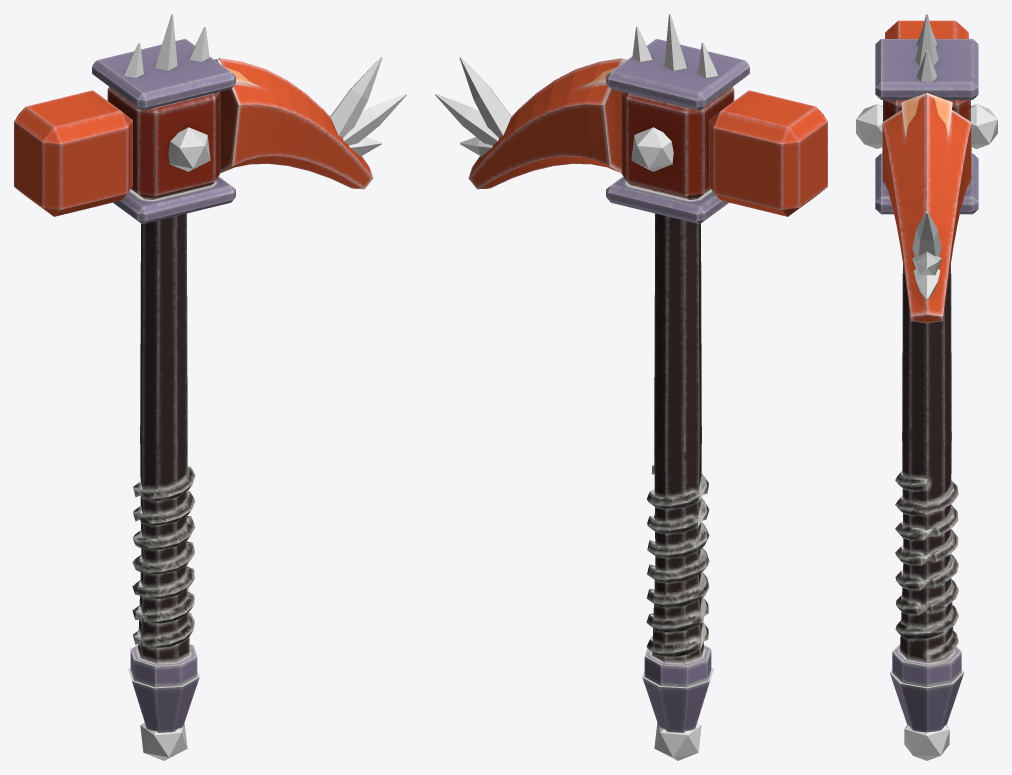
File: EmberPickaxe.glb
The picture shows the model from 3 angles, left to right: view 1: azimuth 30°, elevation 25°; view 2: azimuth 150°, elevation 25°; view 3: azimuth 270°, elevation 25°; orthographic projection.
Visible parts, largest first — view 1: Body__Tex, Head__Accent, Head__Gem; view 2: Body__Tex, Head__Accent, Head__Gem; view 3: Body__Tex, Head__Gem, Head__Accent.
Boxes of the visible parts, bbox=[...] form: Body__Tex: bbox=[14, 38, 373, 732]; Head__Accent: bbox=[124, 14, 406, 156]; Head__Gem: bbox=[140, 127, 210, 760]; Body__Tex: bbox=[468, 38, 827, 732]; Head__Accent: bbox=[435, 14, 717, 156]; Head__Gem: bbox=[631, 127, 701, 760]; Body__Tex: bbox=[875, 20, 978, 732]; Head__Gem: bbox=[856, 104, 997, 760]; Head__Accent: bbox=[912, 14, 941, 299].
Size of the model in its own units: 2.3 by 4.33 by 0.7412.
1 material, 1 textured.
